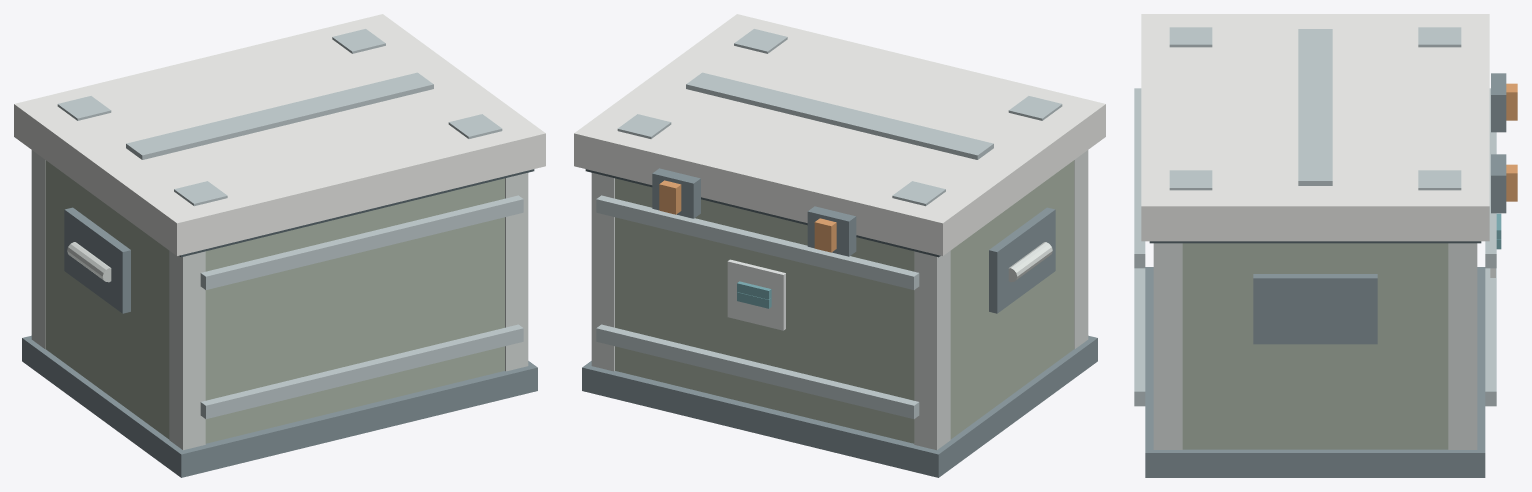
File: supply_crate_medium.glb
3 renders of one model, left to right at view 1: azimuth 30°, elevation 25°; view 2: azimuth 150°, elevation 25°; view 3: azimuth 270°, elevation 25°, orthographic. The views are drawn at different scales.
Parts seen in each view (by area): view 1: lid_white_painted, body_olive, bottom_skid_dark_alloy, corner_ribs_satin_steel, reinforcing_ribs_alloy, top_spine_alloy, side_handle_well_dark_alloy, stacking_guides_alloy, lid_seal_black_rubber, carry_handles_satin_steel; view 2: lid_white_painted, body_olive, bottom_skid_dark_alloy, corner_ribs_satin_steel, reinforcing_ribs_alloy, top_spine_alloy, side_handle_well_dark_alloy, stacking_guides_alloy, latch_housings_dark_alloy, symbol_plate_white_ceramic, lid_latches_orange, carry_handles_satin_steel (+2 smaller); view 3: lid_white_painted, body_olive, bottom_skid_dark_alloy, corner_ribs_satin_steel, side_handle_well_dark_alloy, reinforcing_ribs_alloy, top_spine_alloy, stacking_guides_alloy, latch_housings_dark_alloy, lid_seal_black_rubber, lid_latches_orange.
Part boxes in pixels (bbox=[...]): lid_white_painted: bbox=[14, 14, 545, 255]; body_olive: bbox=[45, 160, 504, 443]; bottom_skid_dark_alloy: bbox=[22, 335, 537, 477]; corner_ribs_satin_steel: bbox=[31, 150, 528, 450]; reinforcing_ribs_alloy: bbox=[200, 195, 523, 418]; top_spine_alloy: bbox=[126, 72, 433, 159]; side_handle_well_dark_alloy: bbox=[64, 207, 130, 313]; stacking_guides_alloy: bbox=[57, 29, 502, 206]; lid_seal_black_rubber: bbox=[179, 169, 534, 257]; carry_handles_satin_steel: bbox=[67, 242, 111, 282]; lid_white_painted: bbox=[574, 14, 1105, 255]; body_olive: bbox=[615, 160, 1074, 443]; bottom_skid_dark_alloy: bbox=[582, 335, 1097, 477]; corner_ribs_satin_steel: bbox=[591, 150, 1088, 450]; reinforcing_ribs_alloy: bbox=[596, 195, 919, 418]; top_spine_alloy: bbox=[686, 72, 993, 159]; side_handle_well_dark_alloy: bbox=[989, 207, 1055, 313]; stacking_guides_alloy: bbox=[617, 29, 1062, 206]; latch_housings_dark_alloy: bbox=[652, 168, 856, 256]; symbol_plate_white_ceramic: bbox=[727, 259, 785, 330]; lid_latches_orange: bbox=[659, 180, 836, 252]; carry_handles_satin_steel: bbox=[1008, 242, 1052, 282]; lid_white_painted: bbox=[1141, 14, 1489, 241]; body_olive: bbox=[1182, 243, 1448, 449]; bottom_skid_dark_alloy: bbox=[1145, 267, 1485, 477]; corner_ribs_satin_steel: bbox=[1153, 243, 1477, 449]; side_handle_well_dark_alloy: bbox=[1253, 274, 1377, 344]; reinforcing_ribs_alloy: bbox=[1134, 88, 1496, 406]; top_spine_alloy: bbox=[1298, 29, 1332, 185]; stacking_guides_alloy: bbox=[1169, 27, 1461, 190]; latch_housings_dark_alloy: bbox=[1491, 73, 1506, 213]; lid_seal_black_rubber: bbox=[1149, 241, 1481, 243]; lid_latches_orange: bbox=[1506, 83, 1517, 201].
Bounding box in the file's own units: 0.6805 × 0.447 × 0.5545.
